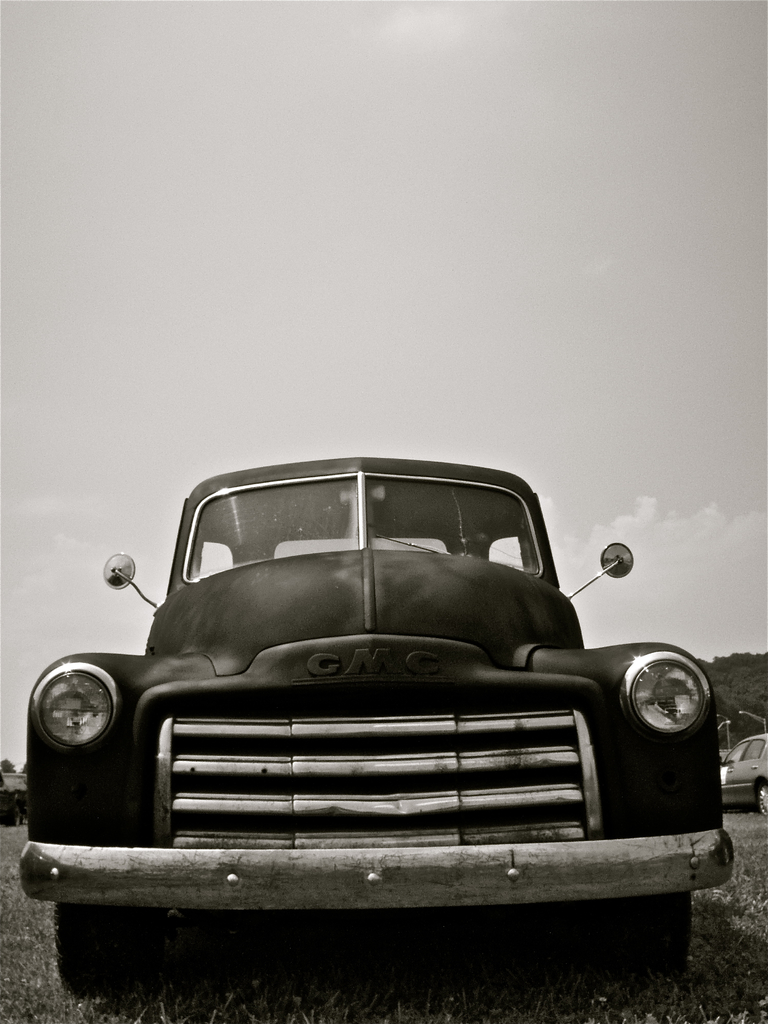Car: (12, 448, 729, 1000), (715, 731, 767, 814), (0, 769, 32, 817)
